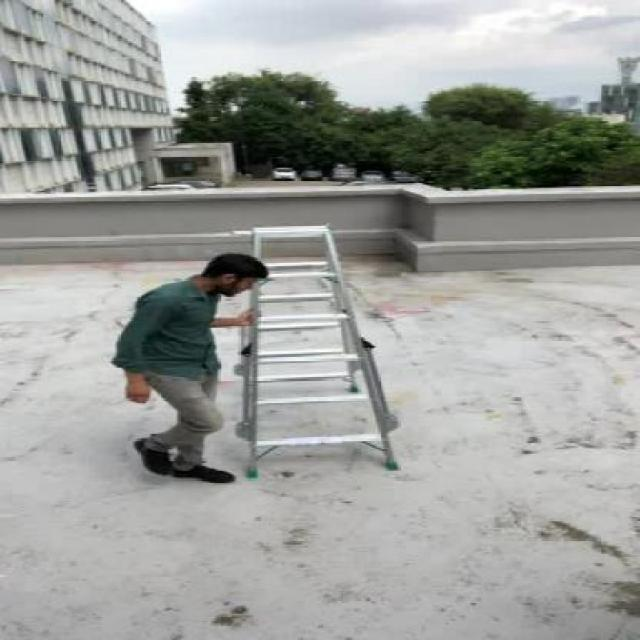hard hat: (230, 218, 408, 486)
vest: (104, 250, 272, 490)
